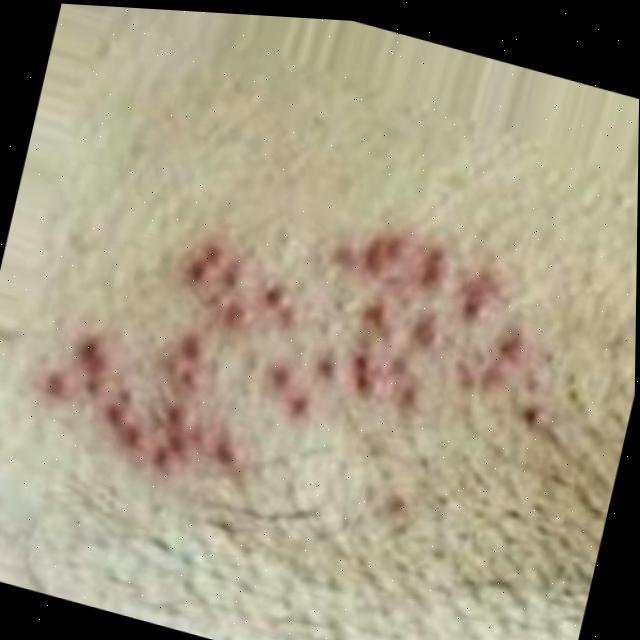Shingles: (16, 135, 561, 564)
